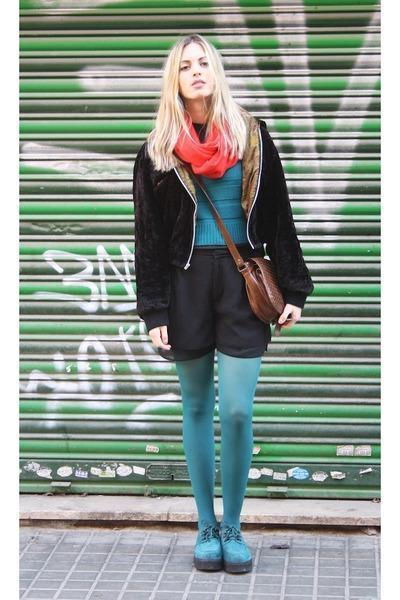Shorts: (153, 242, 268, 367)
jacket: (133, 104, 316, 335)
short sleeve shirt: (182, 119, 248, 255)
